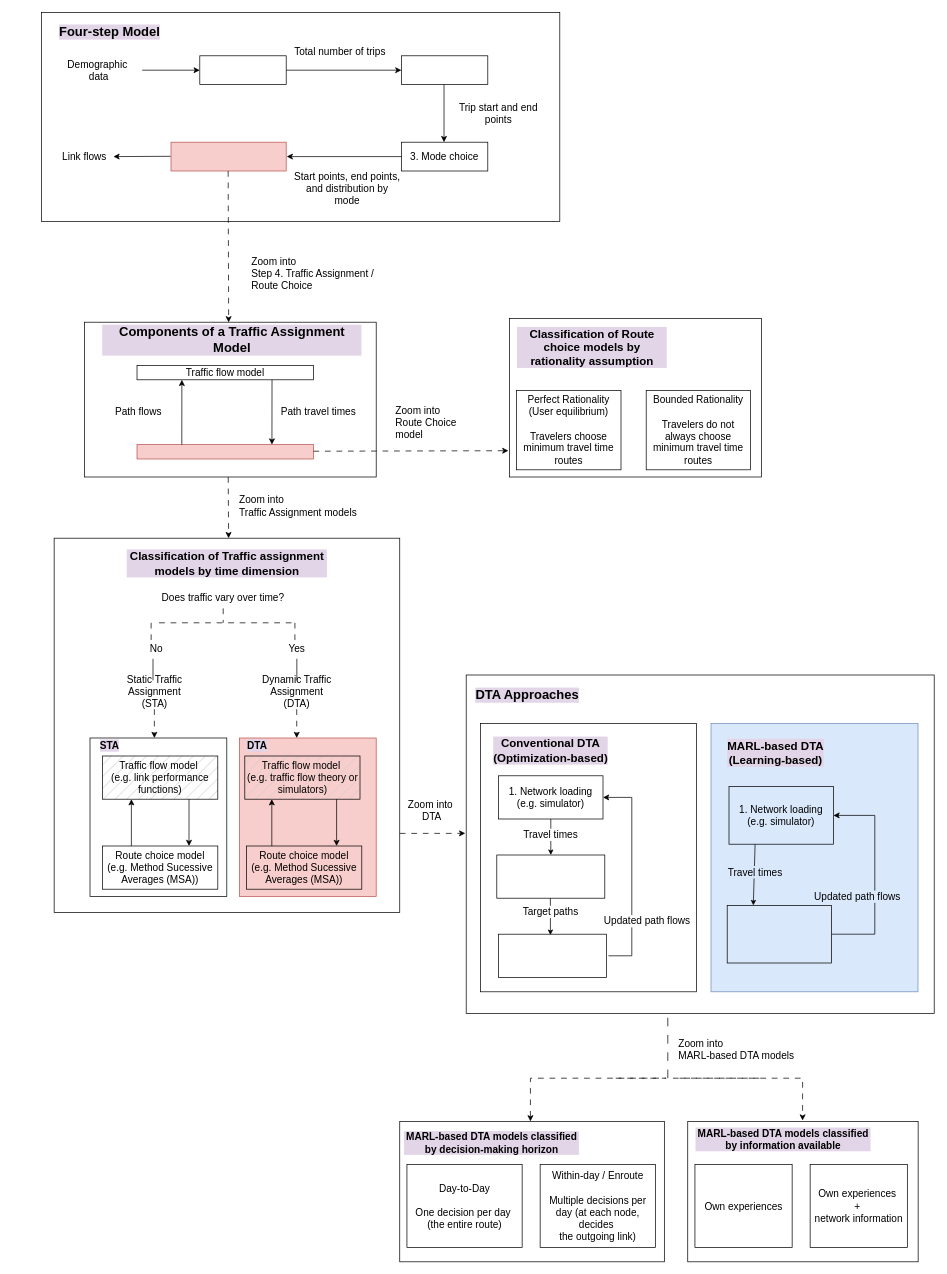
Image size: 947x1274. Some labels were removed from this diagram. Each missing label, with the centre of its shape:
"1. Trip generation" belongs at (x=242, y=70).
"2. Agent policy update (e.g. Bush-Mosteller update rule)" belongs at (x=779, y=934).
"2. Time-dependent shortest path" belongs at (x=550, y=876).
"2. Trip distribution" belongs at (x=444, y=70).
"3. Adjust route choices towards equilibrium (e.g. MSA)" belongs at (x=552, y=955).
"4. Traffic Assignment / Route Choice" belongs at (x=228, y=156).
"Route choice model" belongs at (x=224, y=451).
